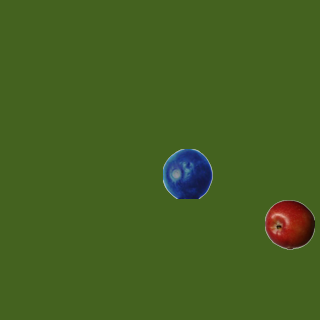Apple Braeburn: (264, 199, 314, 249)
Huckleberry: (162, 148, 212, 198)
